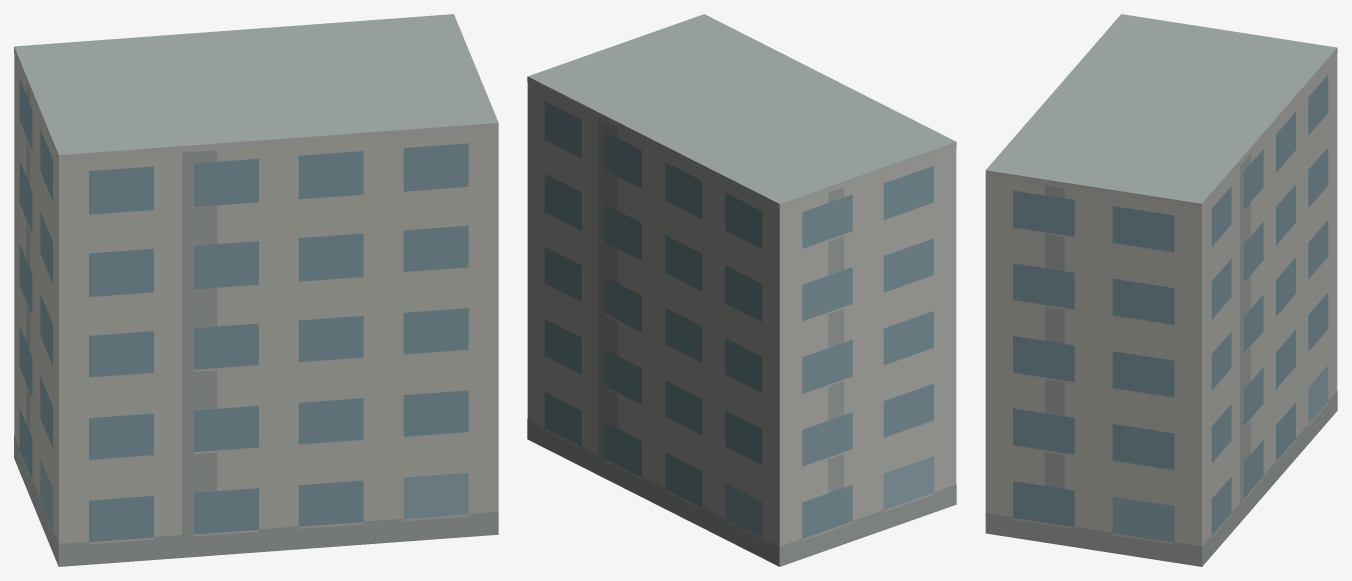
Rendered from residential-41eadaa0-ff97-4ab7-9f05-35b82be0e79e.glb.
The picture shows the model from 3 angles, left to right: view 1: azimuth 30°, elevation 25°; view 2: azimuth 150°, elevation 25°; view 3: azimuth 270°, elevation 25°; orthographic projection. The views are drawn at different scales.
Visible parts, largest first — view 1: residential-41eadaa0-ff97-4ab7-9f05-35b82be0e79e.tmp; view 2: residential-41eadaa0-ff97-4ab7-9f05-35b82be0e79e.tmp; view 3: residential-41eadaa0-ff97-4ab7-9f05-35b82be0e79e.tmp.
Part boxes in pixels (x1,y1,x2,y2): residential-41eadaa0-ff97-4ab7-9f05-35b82be0e79e.tmp: [14, 14, 498, 566]; residential-41eadaa0-ff97-4ab7-9f05-35b82be0e79e.tmp: [527, 14, 956, 566]; residential-41eadaa0-ff97-4ab7-9f05-35b82be0e79e.tmp: [985, 14, 1337, 566].
Bounding box in the file's own units: 17.1 × 15.25 × 13.4.
